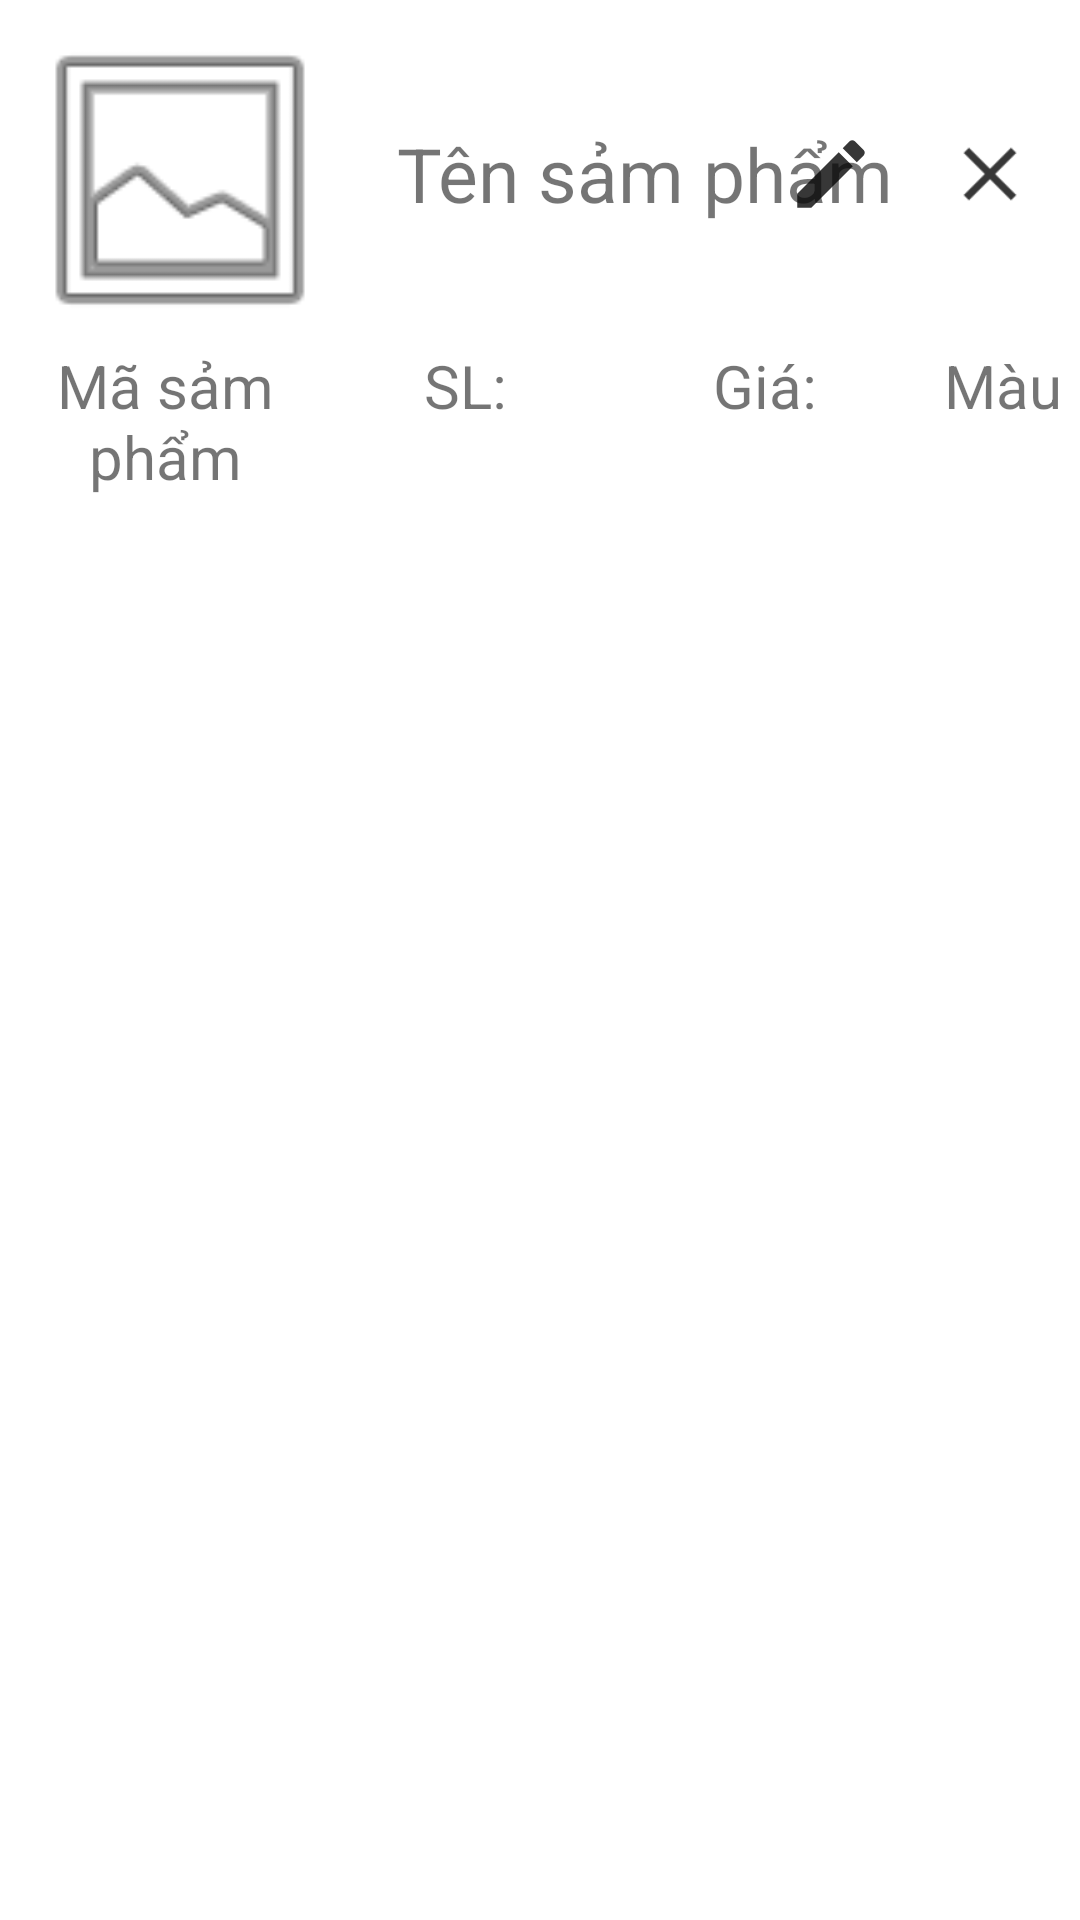

Icons on this 1080px×1920px Android screen, each with its box as region(x1, y1, x2, y2):
delete: region(963, 147, 1017, 201)
gallery: region(55, 55, 305, 305)
